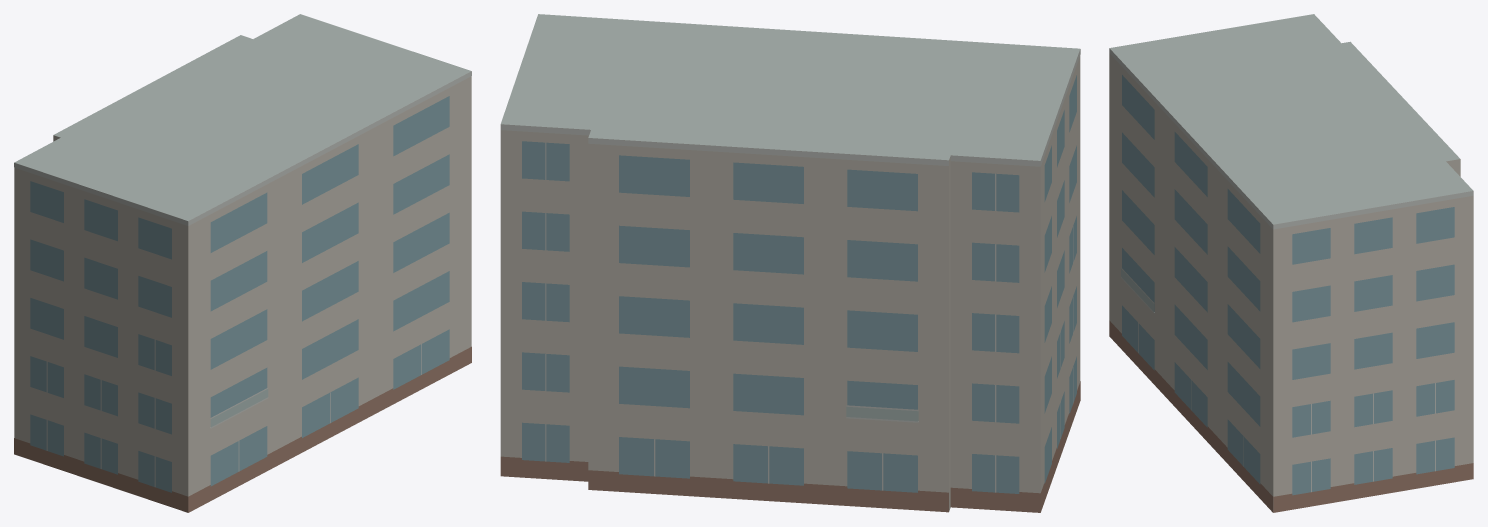
Rendered from survey-upis-32737497.glb.
3 renders of one model, left to right at view 1: azimuth 30°, elevation 25°; view 2: azimuth 150°, elevation 25°; view 3: azimuth 270°, elevation 25°, orthographic. The views are drawn at different scales.
Parts seen in each view (by area): view 1: survey-upis-32737497.tmp; view 2: survey-upis-32737497.tmp; view 3: survey-upis-32737497.tmp.
Boxes of the visible parts, x1,y1,x2,y2 form: survey-upis-32737497.tmp: (14, 14, 471, 512); survey-upis-32737497.tmp: (500, 14, 1080, 512); survey-upis-32737497.tmp: (1109, 14, 1473, 512).
Size of the model in its own units: 22.9 by 14.6 by 16.73.
